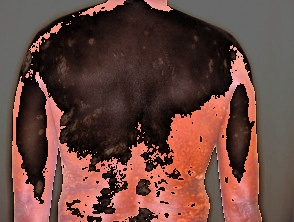vitiligo: (28, 20, 137, 188)
